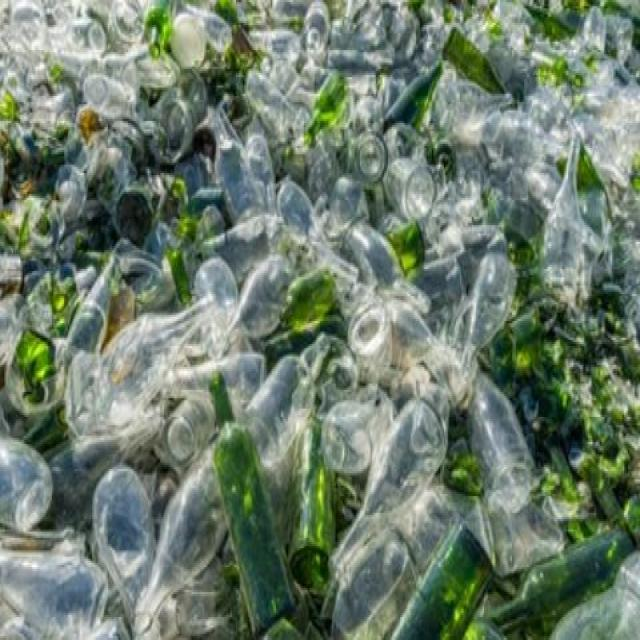electronic: (207, 368, 298, 636), (486, 528, 626, 634), (377, 519, 496, 640)
